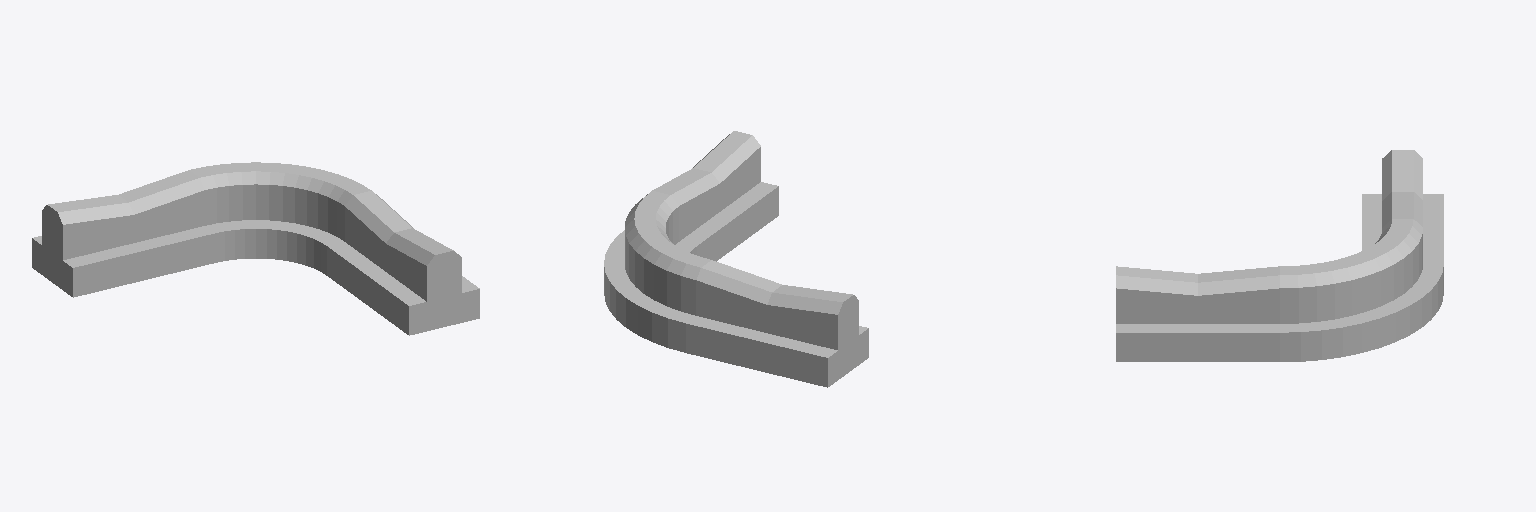
The model's file is hedge-curved.obj.
The picture shows the model from 3 angles: view 1: azimuth 30°, elevation 25°; view 2: azimuth 150°, elevation 25°; view 3: azimuth 270°, elevation 25°; orthographic projection.
Visible parts, largest first — view 1: hedge-curved; view 2: hedge-curved; view 3: hedge-curved.
Boxes of the visible parts, x1,y1,x2,y2 form: hedge-curved: [32, 162, 479, 335]; hedge-curved: [604, 131, 868, 387]; hedge-curved: [1116, 150, 1443, 361].
Bounding box in the file's own units: 1 × 0.25 × 1.